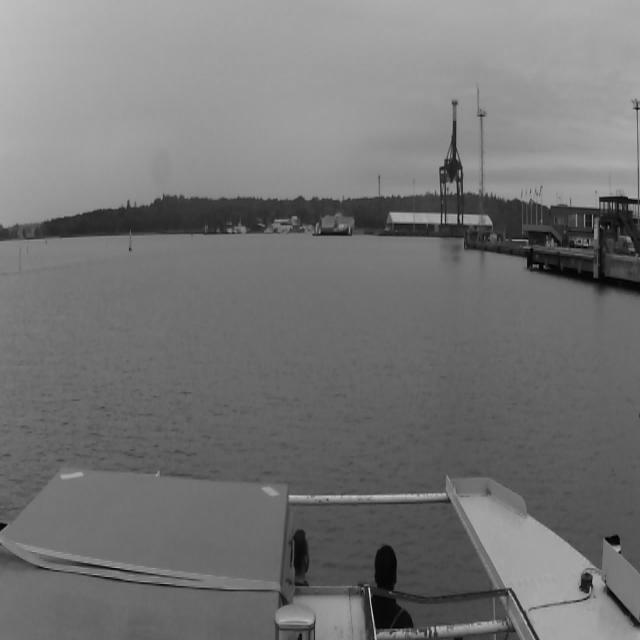buoy: (129, 227, 133, 250), (44, 232, 48, 243)
ship: (321, 220, 348, 236), (234, 220, 246, 234), (205, 226, 223, 234), (226, 221, 232, 234)
